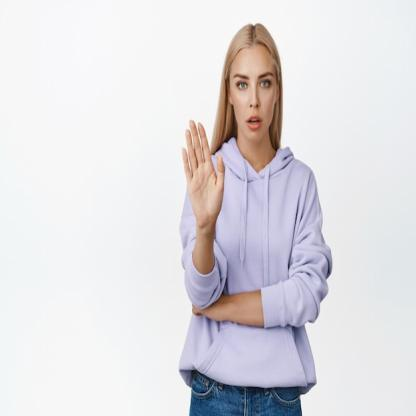stop: (179, 110, 228, 226)
